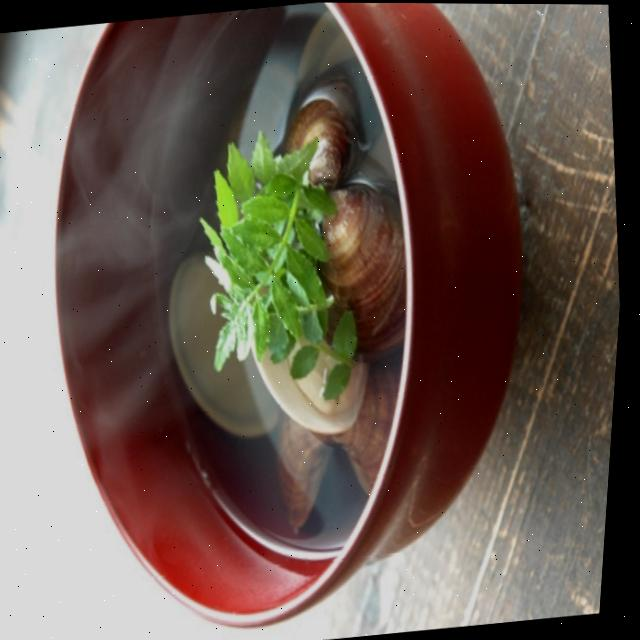汤锅炖物: (7, 0, 495, 640)
